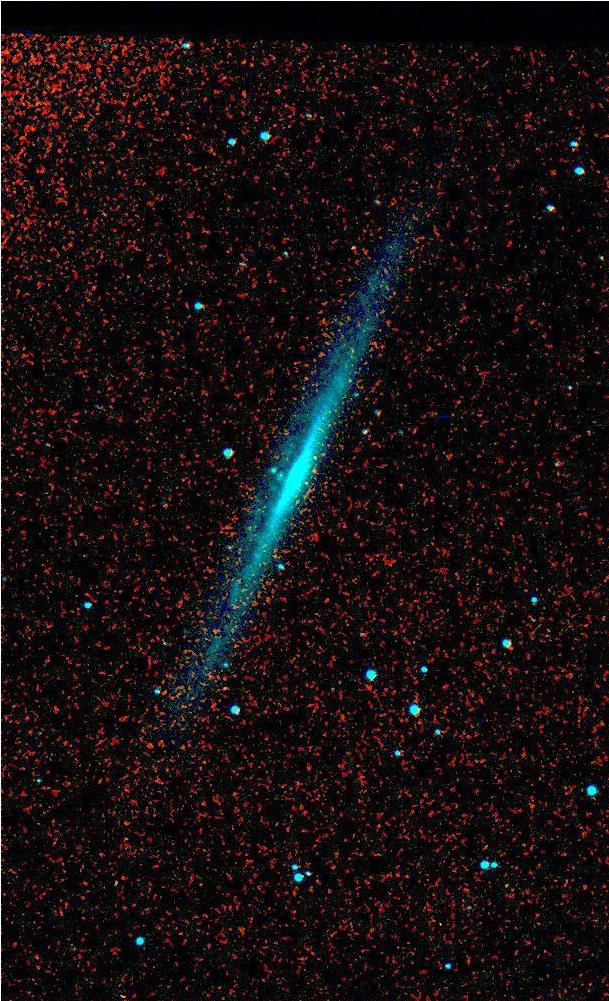star: (195, 616, 225, 646)
